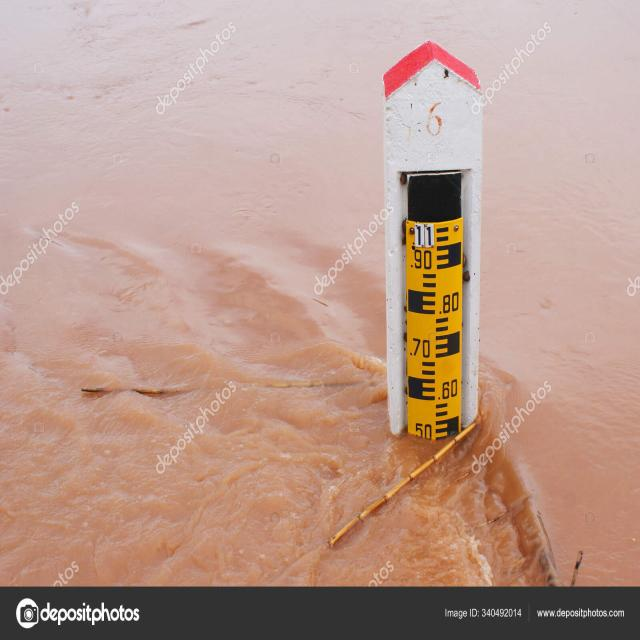ruler: (398, 214, 472, 451)
value: (408, 334, 437, 362), (437, 288, 464, 316), (437, 377, 463, 404), (410, 419, 436, 444), (408, 248, 435, 272), (414, 222, 434, 248)
